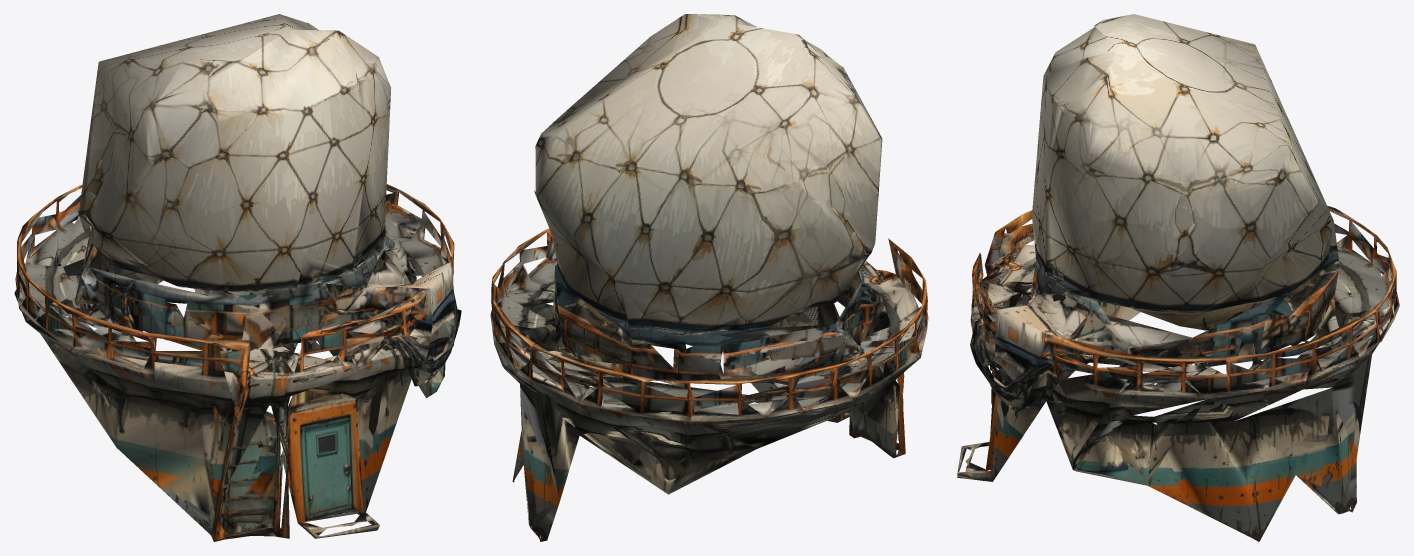
Rendered from EX_Lab_RadarDome.fbx.
The picture shows the model from 3 angles, left to right: view 1: azimuth 30°, elevation 25°; view 2: azimuth 150°, elevation 25°; view 3: azimuth 270°, elevation 25°; orthographic projection. The views are drawn at different scales.
Visible parts, largest first — view 1: texture_mapping; view 2: texture_mapping; view 3: texture_mapping.
Boxes of the visible parts, left/top/right/bottom form: texture_mapping: left=14, top=14, right=461, bottom=541; texture_mapping: left=490, top=14, right=928, bottom=541; texture_mapping: left=957, top=14, right=1399, bottom=541.
Bounding box in the file's own units: 0.8437 × 0.8816 × 0.9549.
Materials: 1 (1 with a texture image).
